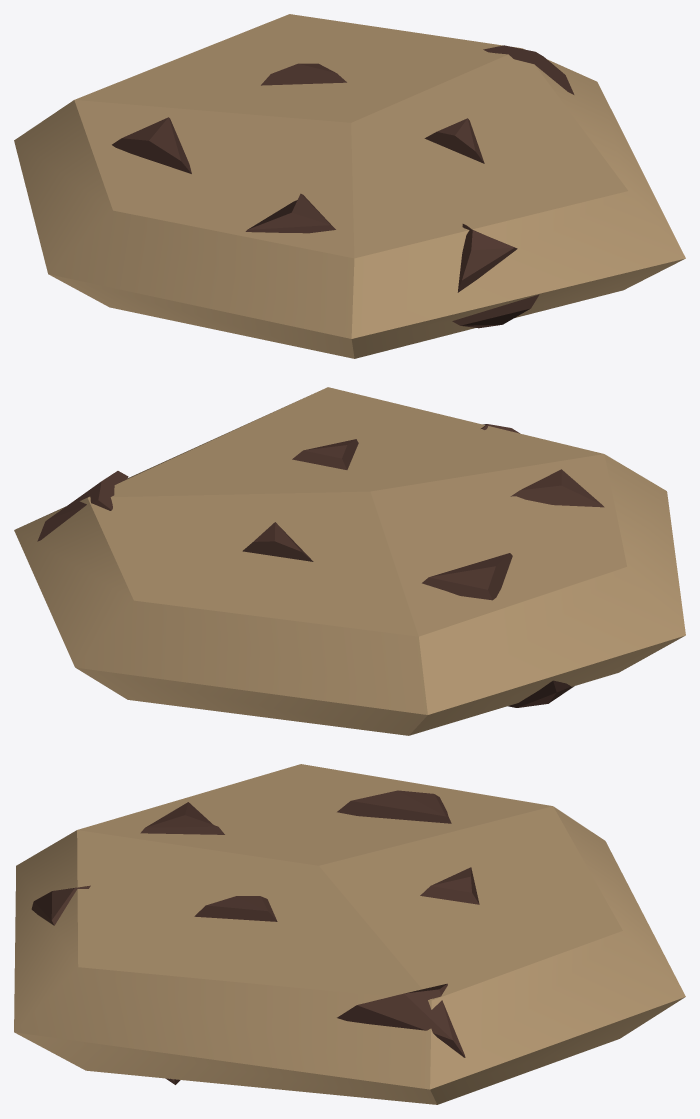
File: Cookie ammo.fbx
3 renders of one model, top to bottom at view 1: azimuth 30°, elevation 25°; view 2: azimuth 150°, elevation 25°; view 3: azimuth 270°, elevation 25°, orthographic. The views are drawn at different scales.
Parts seen in each view (by area): view 1: polySurface678; view 2: polySurface678; view 3: polySurface678.
Part boxes in pixels (left/top/right/bottom): polySurface678: left=14, top=14, right=685, bottom=358; polySurface678: left=14, top=387, right=685, bottom=735; polySurface678: left=14, top=764, right=685, bottom=1104.
Size of the model in its own units: 0.0975 by 0.0222 by 0.091.
